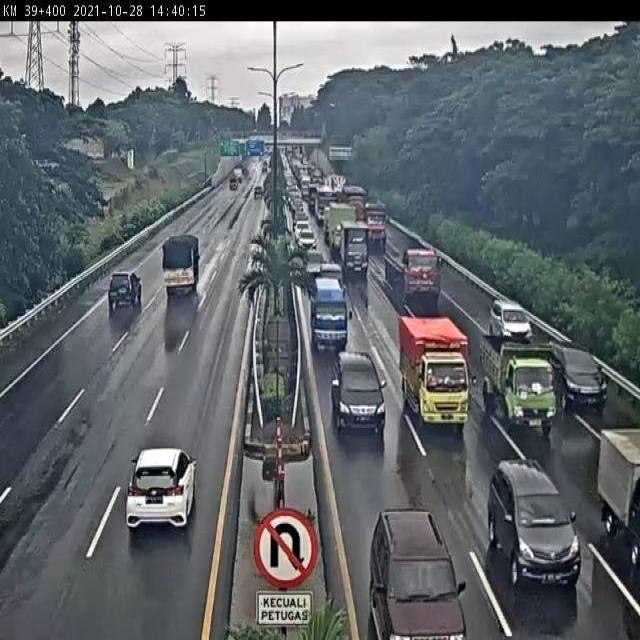bus-s-: (309, 274, 349, 354)
car: (489, 452, 584, 583), (125, 442, 202, 534), (330, 348, 386, 433), (550, 337, 607, 411), (488, 296, 535, 348), (106, 270, 142, 310), (302, 244, 326, 279), (318, 263, 345, 292), (296, 230, 319, 253)
small truck: (162, 233, 202, 296)
truck-m-: (397, 308, 472, 428), (477, 330, 557, 438), (341, 220, 371, 273)
truck-xl-: (387, 239, 444, 301)
